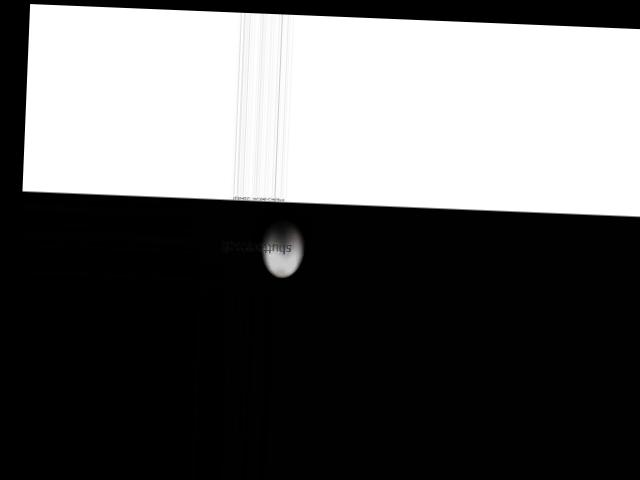egg: (260, 218, 305, 279)
